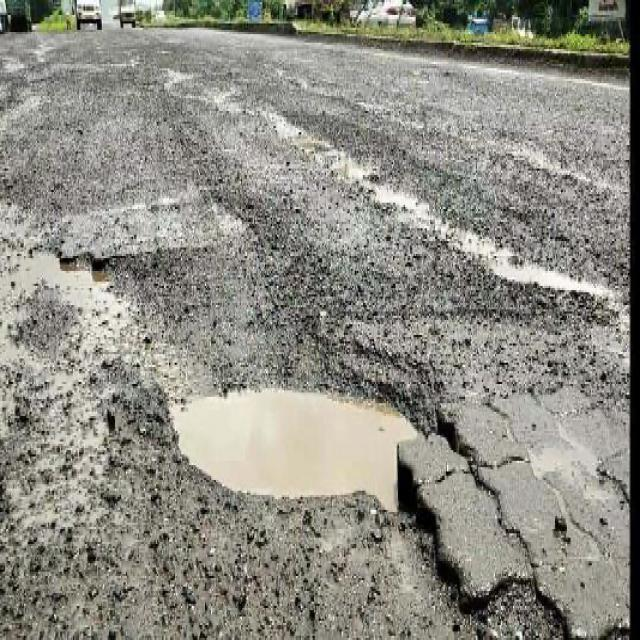pothole: (164, 371, 469, 521)
